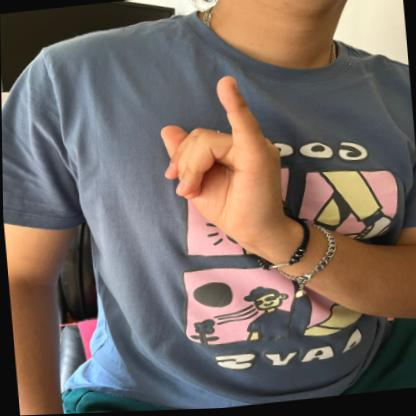I: (151, 67, 290, 255)
